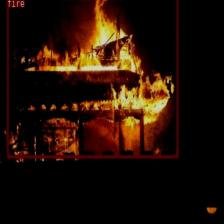fire: (6, 0, 178, 158)
